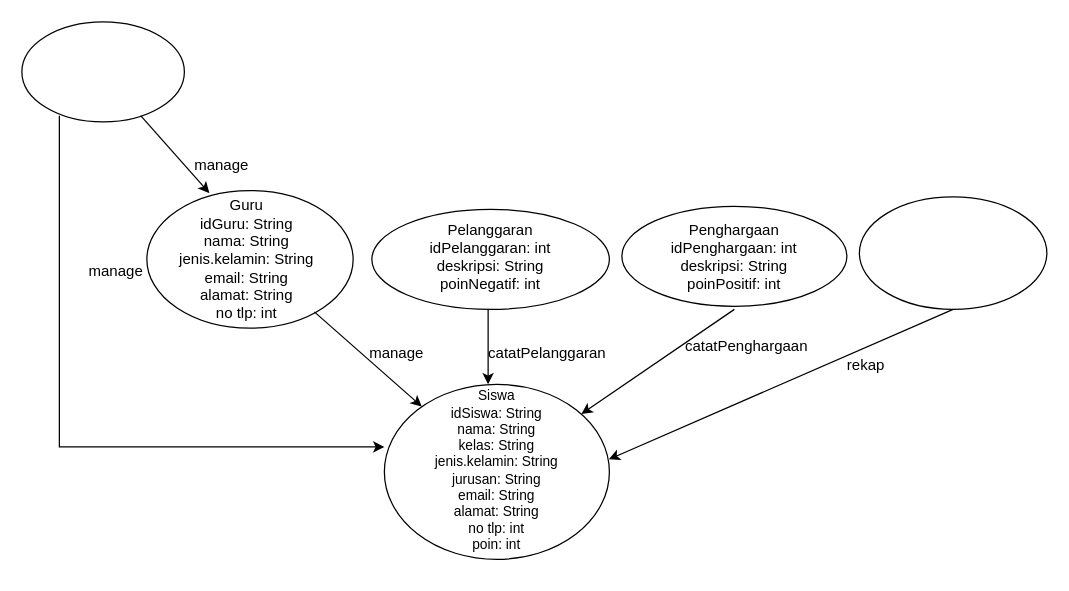
The diagram is 1069 pixels wide and 591 high, and some of its shapes have lost their labels. Here are the shapes that lost their labels. From the top down, the centre of each, then its label:
At (x=102, y=71): "Admin idAdmin: String nama: string".
At (x=952, y=252): "Rekapitulasi idRekap: int siswa: Siswa totalPoin: int tangal: Date".
